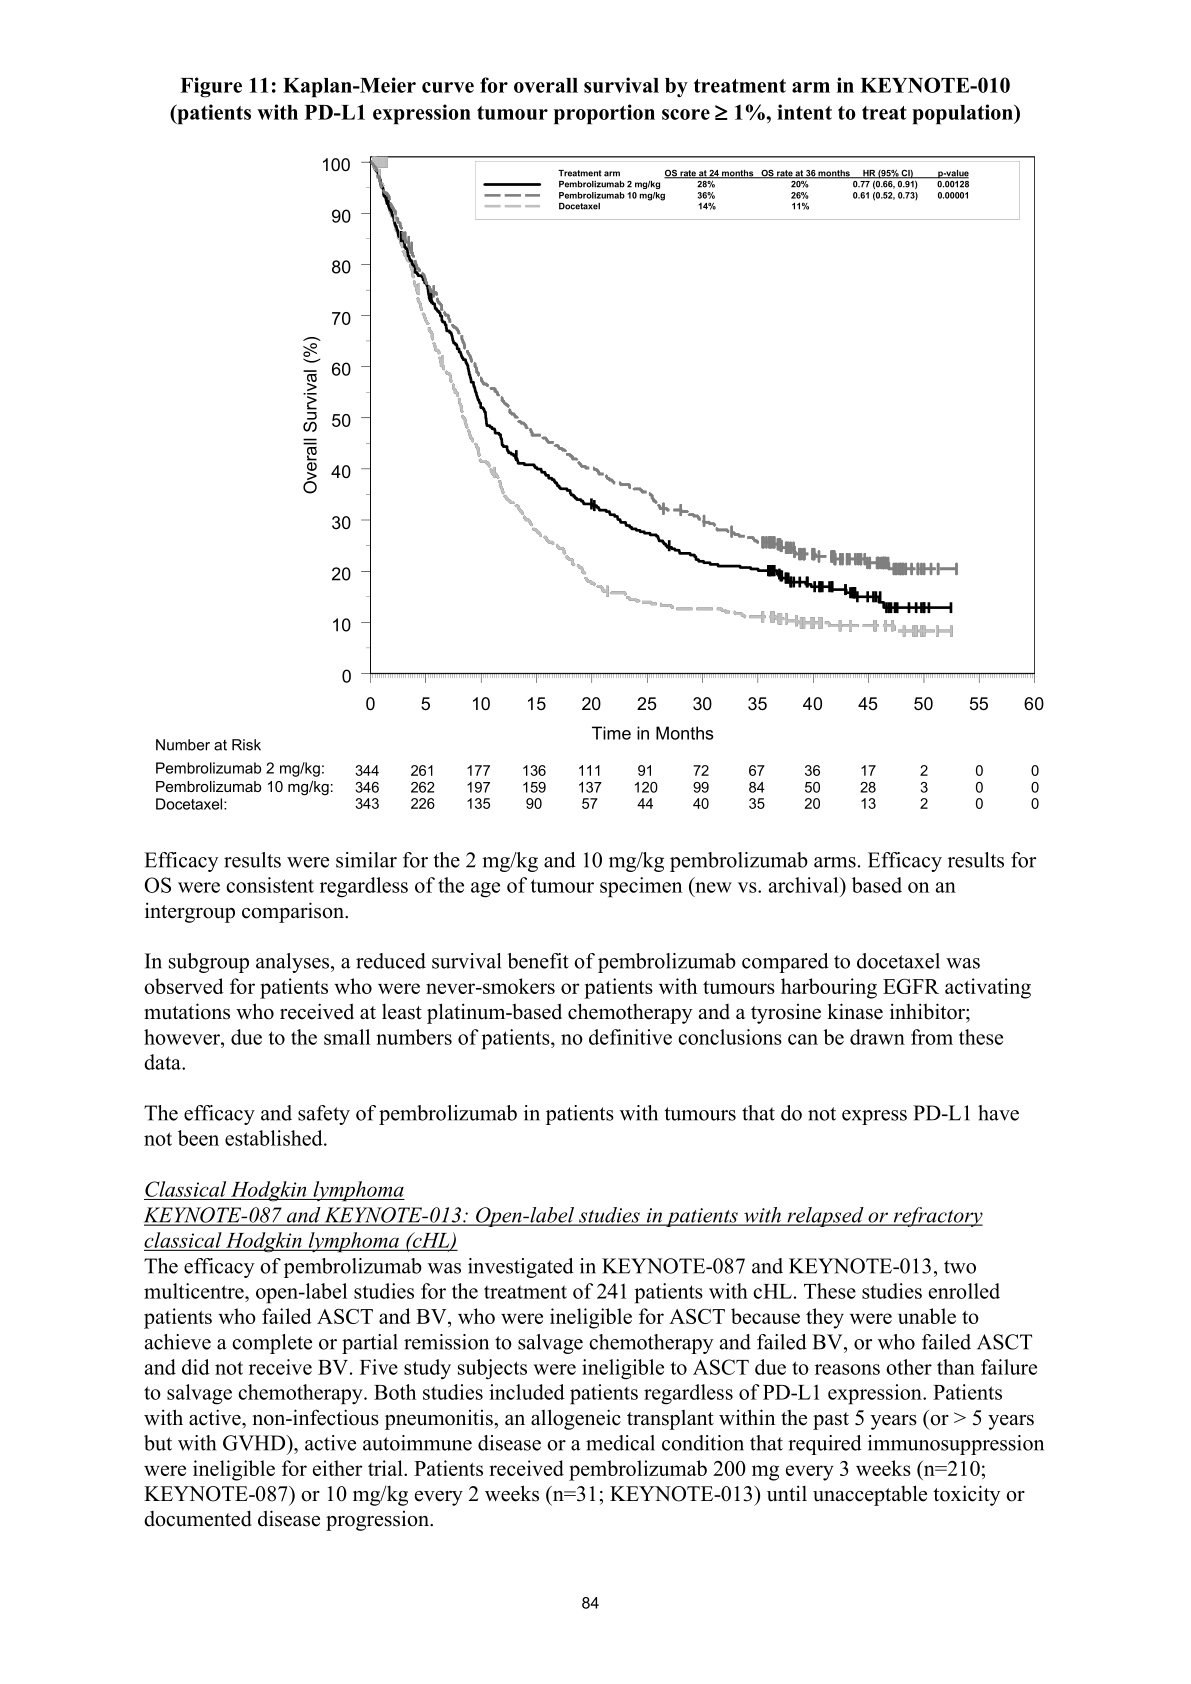nolines: (152, 759, 1041, 810)
